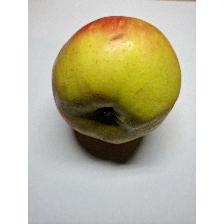Apfel: (44, 12, 186, 146)
